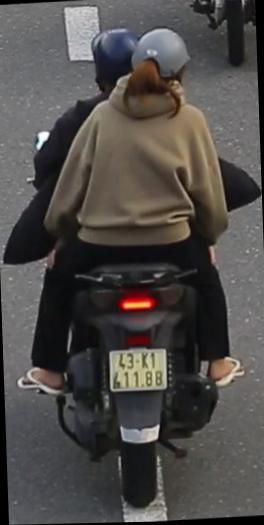LP: (107, 341, 172, 395)
helmet: (132, 23, 197, 105), (88, 24, 144, 107)
